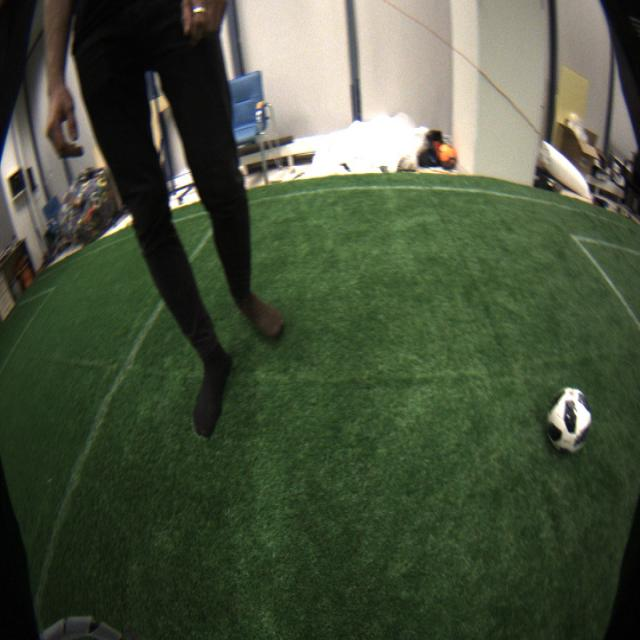ball: (546, 386, 592, 454)
